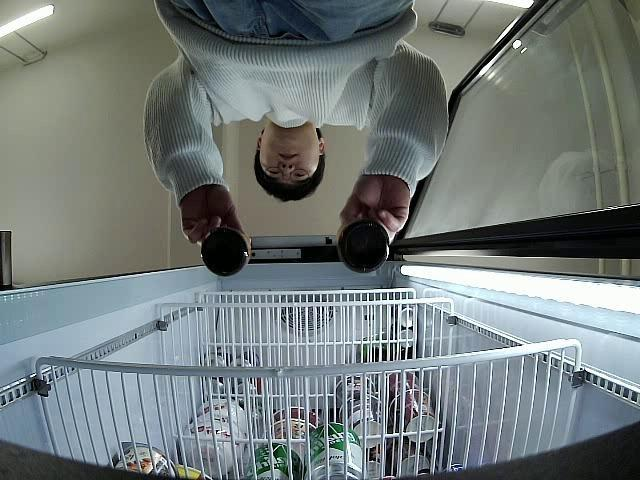17_vita500: (335, 218, 391, 274), (200, 224, 252, 274)
